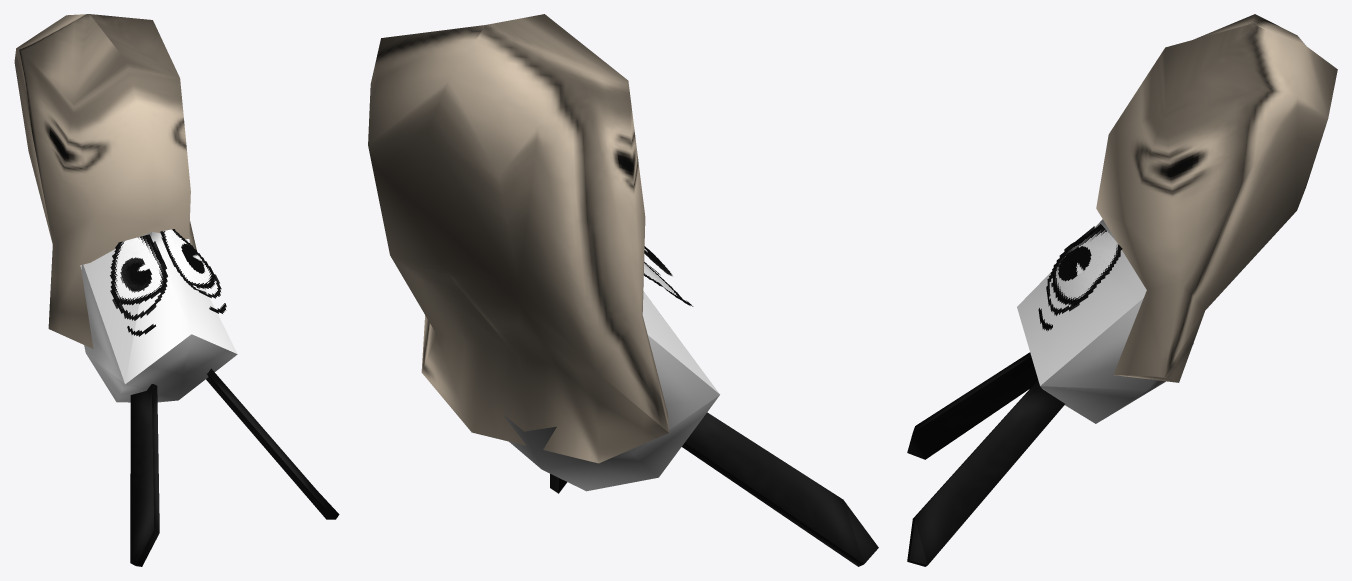
Rendered from hsl_250.glb.
3 renders of one model, left to right at view 1: azimuth 30°, elevation 25°; view 2: azimuth 150°, elevation 25°; view 3: azimuth 270°, elevation 25°, orthographic. The views are drawn at different scales.
Visible parts, largest first — view 1: muzzle-long-neutral, head-front-short, ears-short, head-short, eyes-short, joint_pupilL_short; view 2: muzzle-long-neutral, ears-short, head-short, head-front-short; view 3: muzzle-long-neutral, ears-short, head-front-short, head-short, eyes-short, joint_pupilR_short.
Boxes of the visible parts, bbox=[...] form: muzzle-long-neutral: bbox=[14, 14, 205, 348]; head-front-short: bbox=[83, 232, 237, 384]; ears-short: bbox=[130, 368, 339, 566]; head-short: bbox=[81, 264, 237, 402]; eyes-short: bbox=[110, 229, 226, 336]; joint_pupilL_short: bbox=[120, 257, 151, 292]; muzzle-long-neutral: bbox=[368, 14, 669, 463]; ears-short: bbox=[550, 412, 878, 566]; head-short: bbox=[503, 335, 719, 491]; head-front-short: bbox=[642, 291, 719, 393]; muzzle-long-neutral: bbox=[1096, 14, 1337, 382]; ears-short: bbox=[907, 352, 1064, 566]; head-front-short: bbox=[1017, 219, 1146, 385]; head-short: bbox=[1040, 298, 1193, 423]; eyes-short: bbox=[1038, 224, 1122, 331]; joint_pupilR_short: bbox=[1058, 246, 1091, 281].
Bounding box in the file's own units: 1.15 × 2.29 × 1.83.
6 materials, 6 textured.
